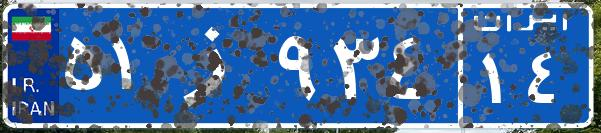1: (475, 38, 525, 113), (110, 28, 158, 105)
3: (330, 28, 385, 110)
4: (385, 28, 445, 110), (525, 38, 570, 115)
5: (57, 26, 110, 107)
9: (273, 28, 330, 110)
ز: (158, 15, 273, 115)
